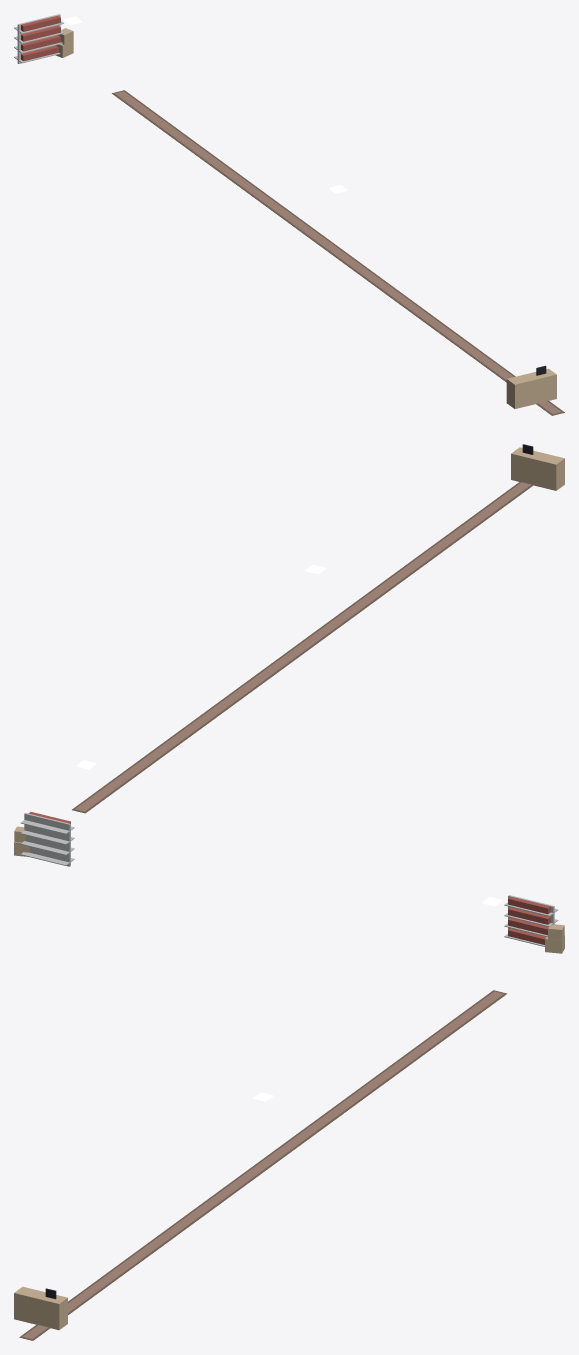
The model's file is fine-s0.glb.
3 renders of one model, top to bottom at view 1: azimuth 30°, elevation 25°; view 2: azimuth 150°, elevation 25°; view 3: azimuth 330°, elevation 25°, orthographic. The views are drawn at different scales.
Visible parts, largest first — view 1: soft-s0, shelving.000, shop-counter.000; view 2: soft-s0, shelving.000, shop-counter.000; view 3: soft-s0, shelving.000, shop-counter.000.
Part boxes in pixels (<box>): soft-s0: <box>112,90,564,415</box>; shelving.000: <box>14,14,63,63</box>; shop-counter.000: <box>506,365,556,408</box>; soft-s0: <box>72,482,533,813</box>; shelving.000: <box>20,812,74,866</box>; shop-counter.000: <box>511,444,564,490</box>; soft-s0: <box>19,990,507,1340</box>; shelving.000: <box>504,895,558,946</box>; shop-counter.000: <box>14,1286,67,1330</box>.
Size of the model in its own units: 2.6 by 2.64 by 36.97.
